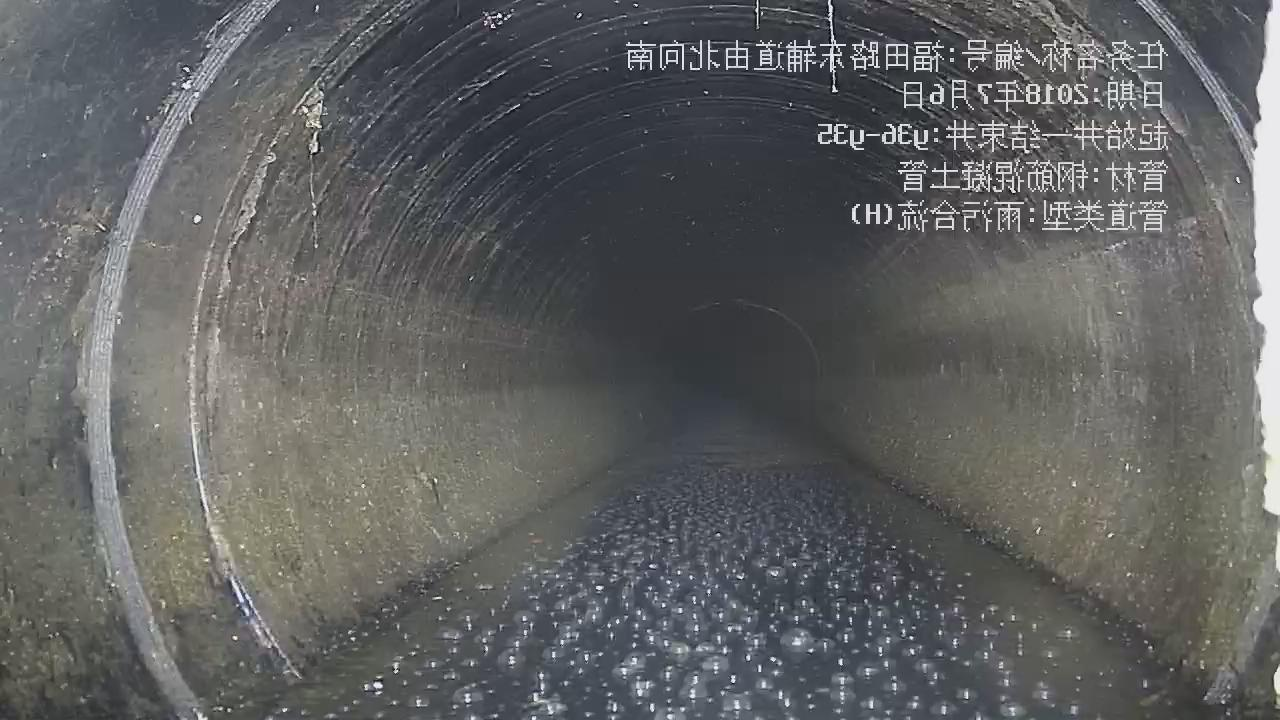FZ: (210, 423, 1206, 719)
